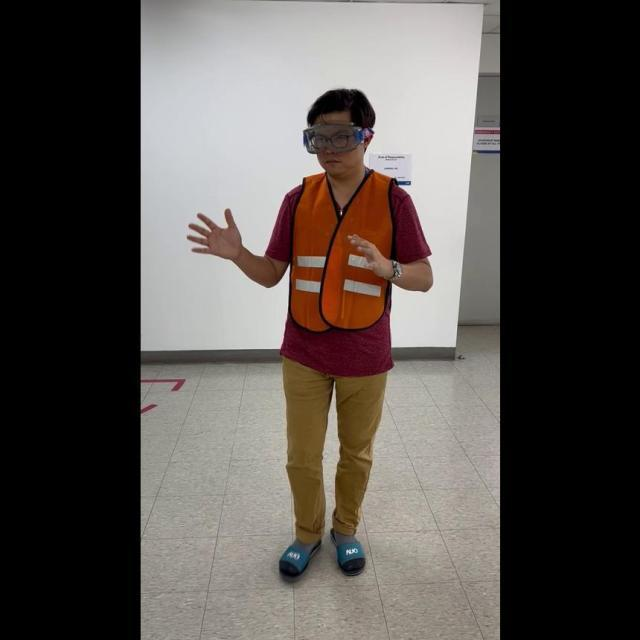bare_hand: (185, 203, 243, 260), (344, 228, 399, 282)
